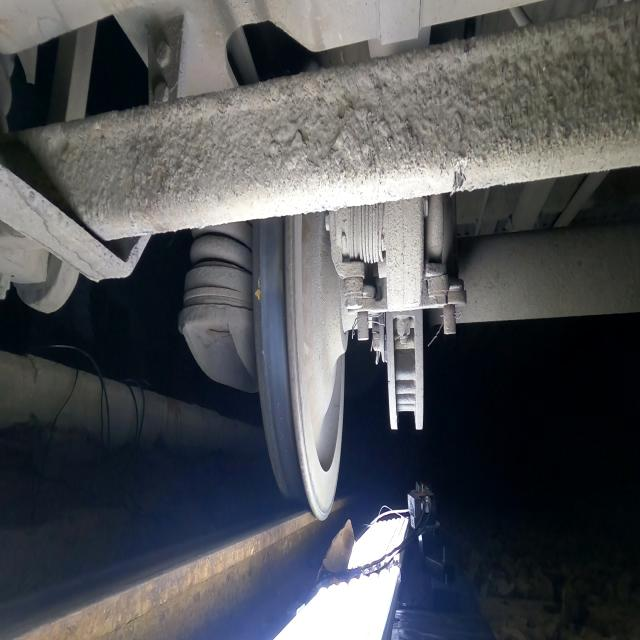Cracks-Scratches: (253, 276, 263, 304)
Shelling: (260, 245, 284, 288)
Wheel: (252, 213, 348, 520)
